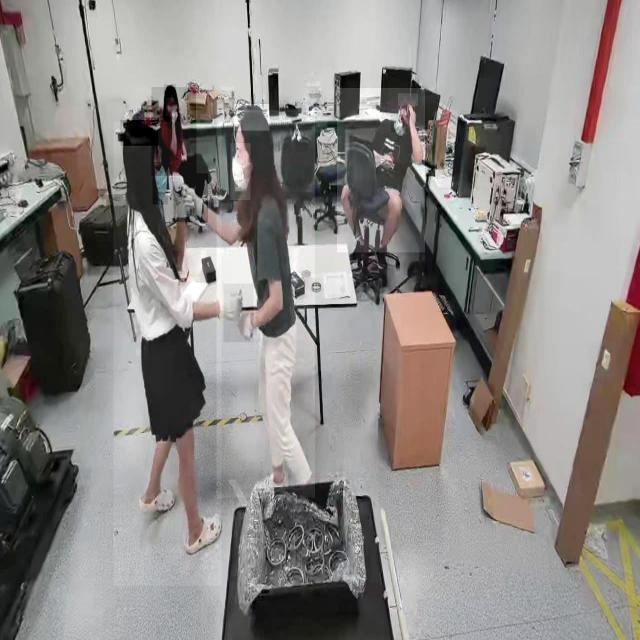gloves: (224, 284, 254, 344), (174, 174, 208, 222)
